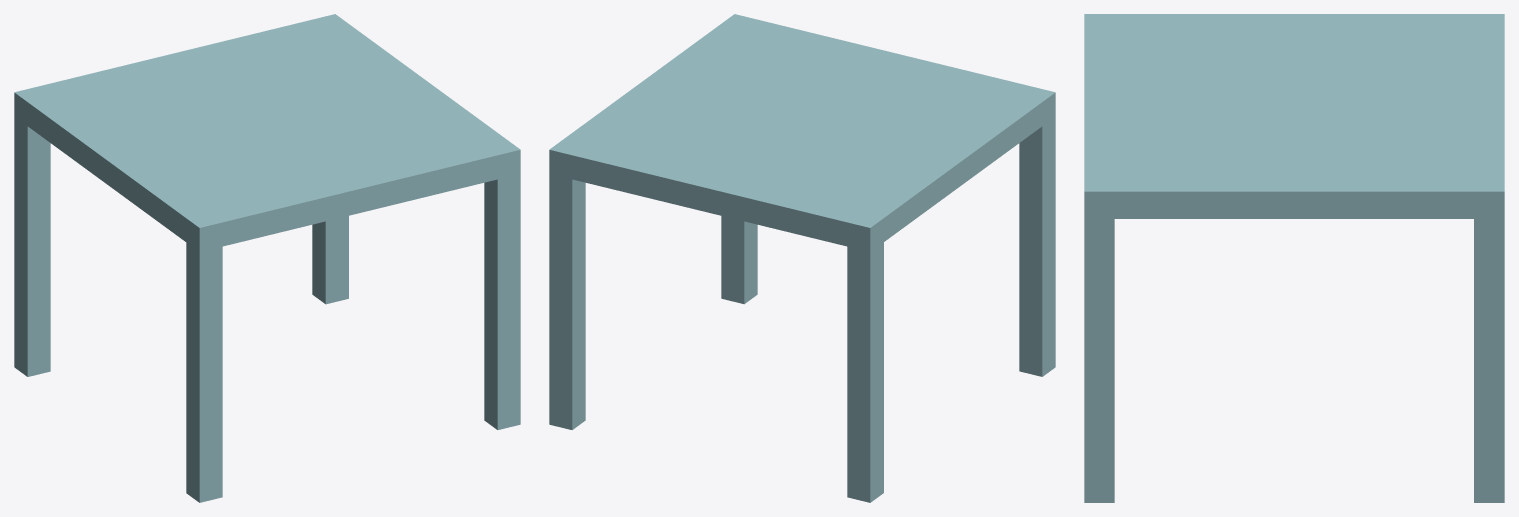
File: lack_table_3_obj0_object.obj
3 views of the same model, side by side, from view 1: azimuth 30°, elevation 25°; view 2: azimuth 150°, elevation 25°; view 3: azimuth 270°, elevation 25° (orthographic). The views are drawn at different scales.
Parts seen in each view (by area): view 1: Mesh1 Group1 Model; view 2: Mesh1 Group1 Model; view 3: Mesh1 Group1 Model.
Boxes of the visible parts, left/top/right/bottom form: Mesh1 Group1 Model: left=14, top=14, right=520, bottom=502; Mesh1 Group1 Model: left=549, top=14, right=1055, bottom=502; Mesh1 Group1 Model: left=1084, top=14, right=1504, bottom=502.
Size of the model in its own units: 21.65 by 17.72 by 21.65.
